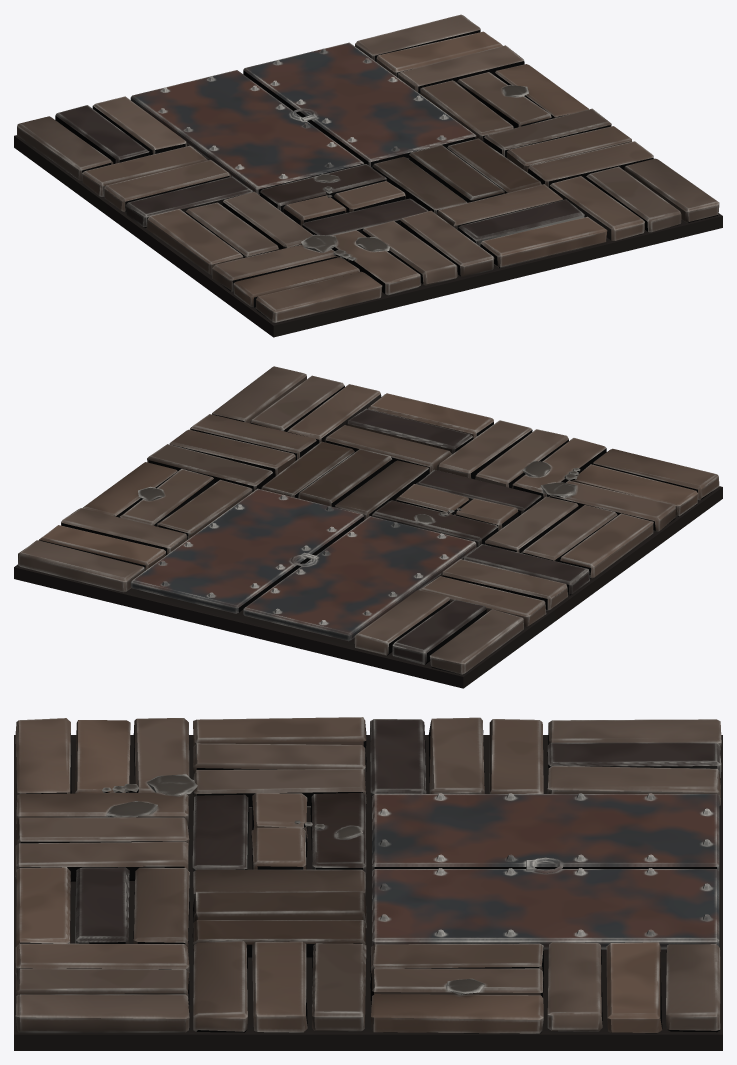
Rendered from foundry_floor_tile.glb.
3 views of the same model, one above another, from view 1: azimuth 30°, elevation 25°; view 2: azimuth 150°, elevation 25°; view 3: azimuth 270°, elevation 25° (orthographic). The views are drawn at different scales.
Visible parts, largest first — view 1: foundry_floor_tile; view 2: foundry_floor_tile; view 3: foundry_floor_tile.
Boxes of the visible parts, <box> form: foundry_floor_tile: <box>14,14,722,337</box>; foundry_floor_tile: <box>14,366,722,688</box>; foundry_floor_tile: <box>14,717,722,1050</box>.
Bounding box in the file's own units: 4 × 0.2476 × 4.
1 material, 1 textured.
